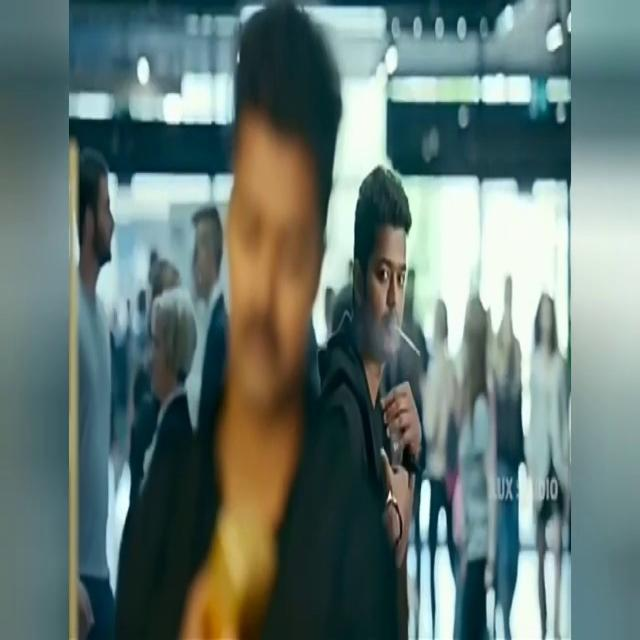smoking: (408, 332, 412, 362)
